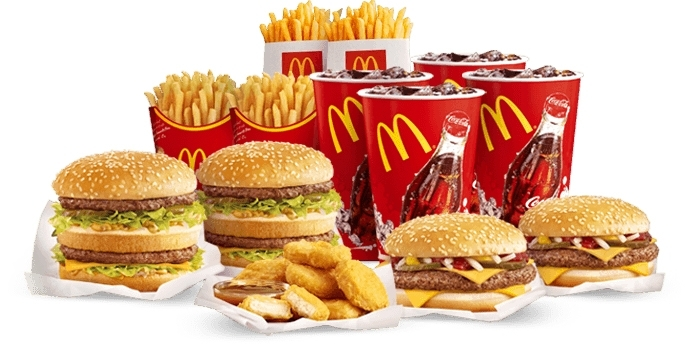mcdonalds: (373, 112, 432, 173), (478, 94, 536, 154)
